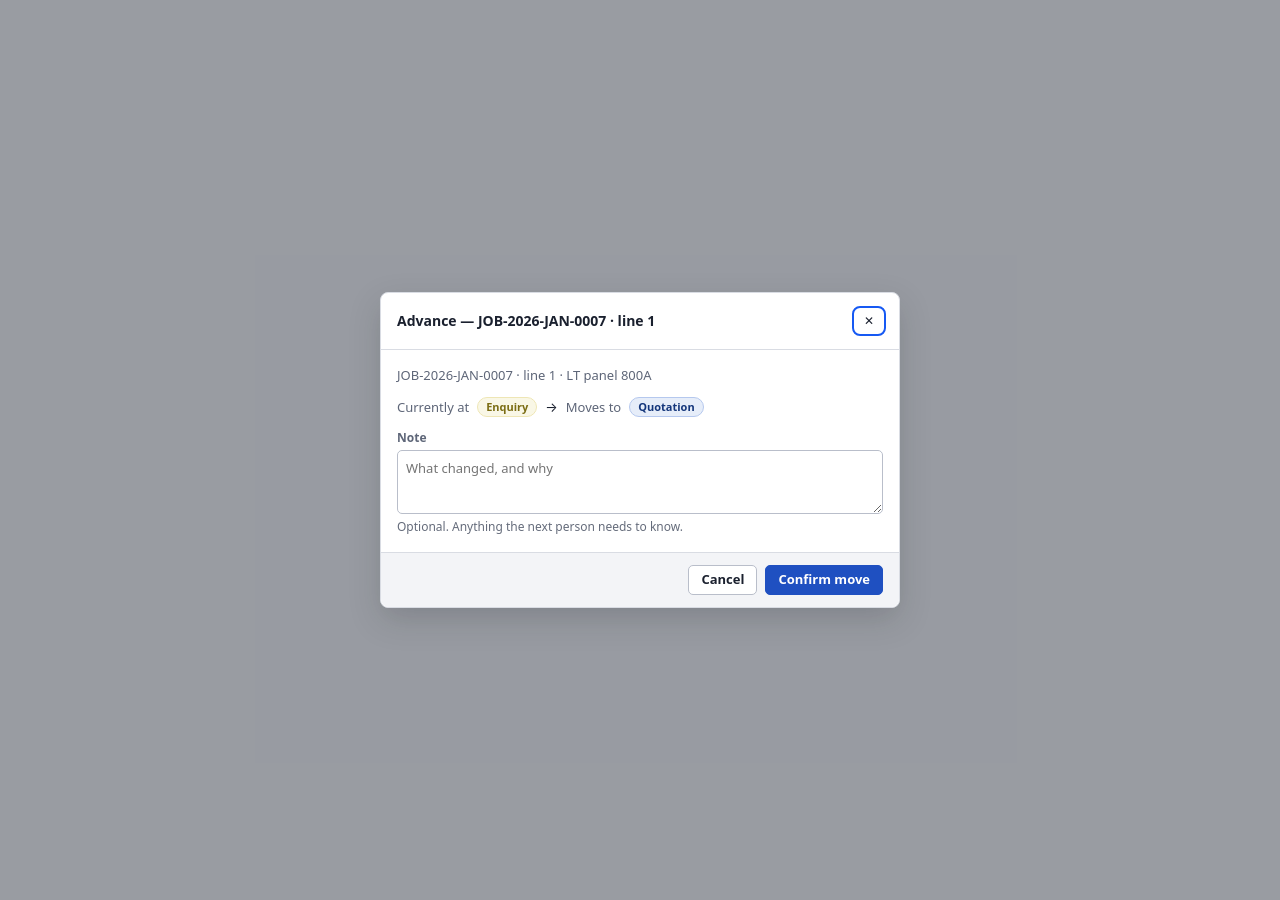
Test case: TransitionDialog › says the line has already moved on a 409, and does not retry
The image size is (1280, 900).
Click the button "Confirm move" at (824, 580), box [766,565,883,595]
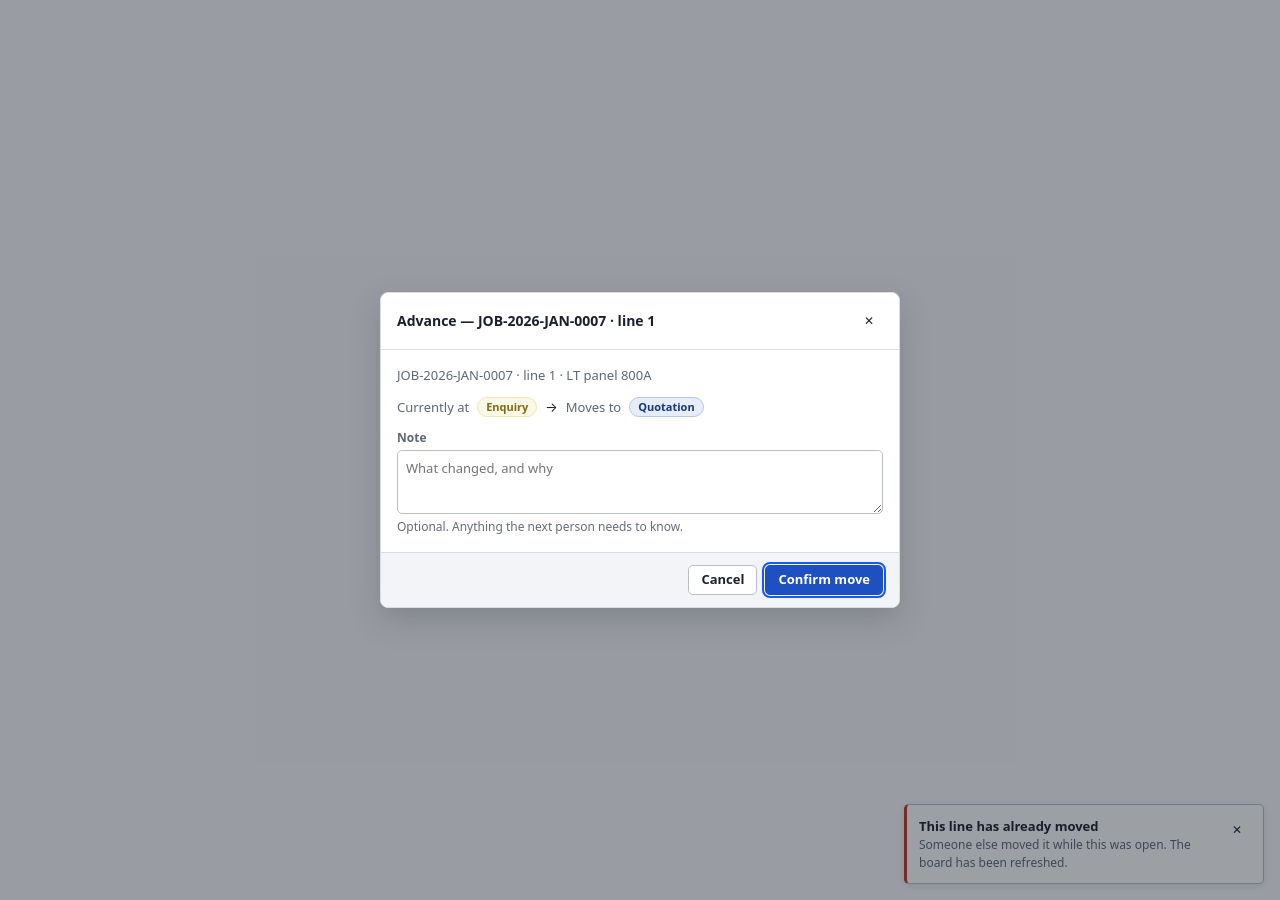
Now the text "This line has already moved" is shown, box [919,817,1098,835]
